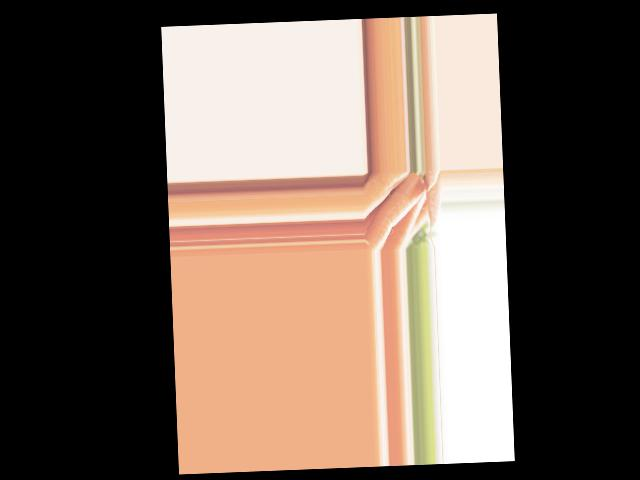carrot: (388, 188, 432, 242)
